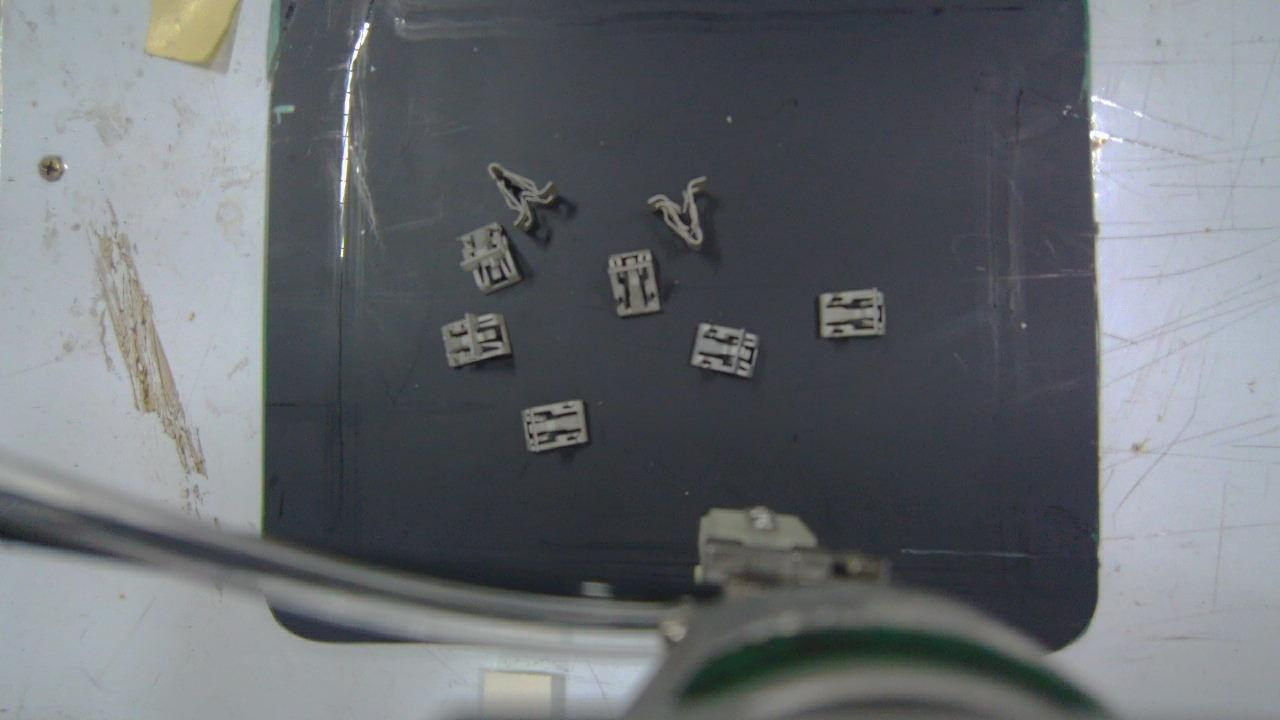ng: (487, 163, 558, 233), (457, 221, 522, 295), (647, 175, 705, 250), (688, 322, 760, 379), (442, 313, 512, 368), (819, 286, 886, 339), (608, 249, 660, 316), (521, 400, 589, 451)
